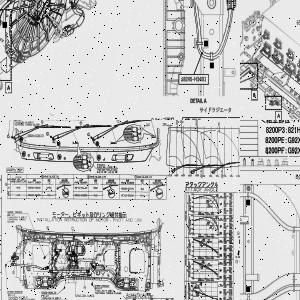PartNumber: (180, 76, 206, 82), (74, 186, 88, 190), (28, 186, 41, 190), (7, 210, 20, 214), (27, 134, 40, 137), (121, 194, 134, 197), (41, 291, 54, 294), (8, 290, 20, 293), (121, 188, 134, 190)
